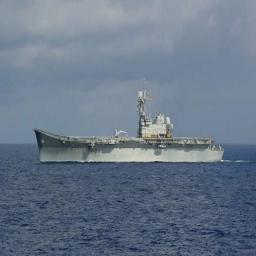Portanaves: (34, 76, 226, 167)
